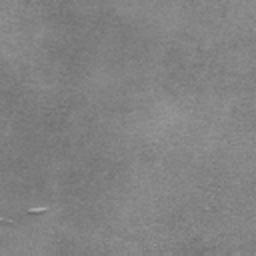Finishing roll printing: (26, 207, 50, 216)
